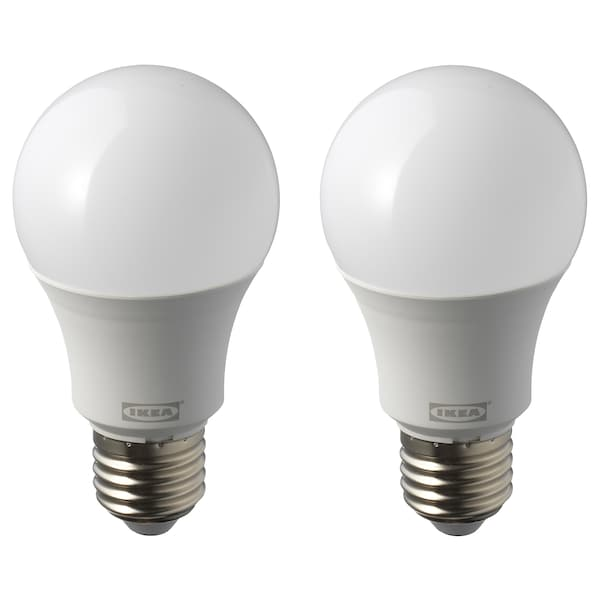Light_bulb: (6, 61, 287, 544), (318, 62, 590, 541)
